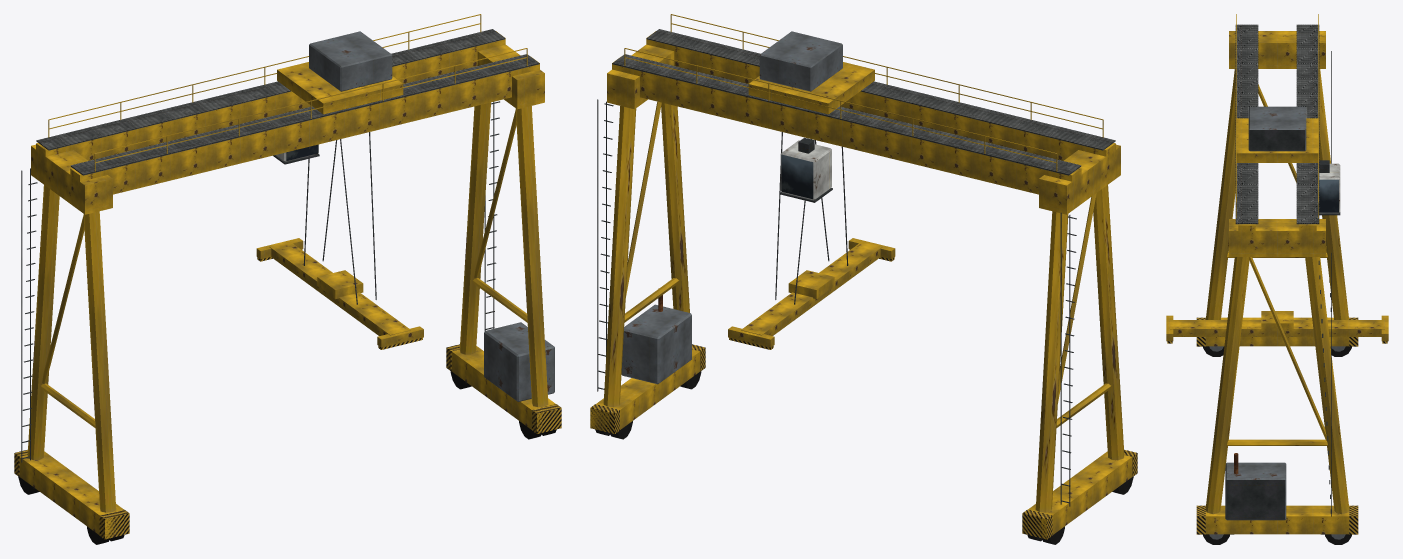
Rendered from c_rtg.glb.
The picture shows the model from 3 angles, left to right: view 1: azimuth 30°, elevation 25°; view 2: azimuth 150°, elevation 25°; view 3: azimuth 270°, elevation 25°; orthographic projection. The views are drawn at different scales.
Parts seen in each view (by area): view 1: body|props; view 2: body|props; view 3: body|props.
Part boxes in pixels (left/top/right/bottom): body|props: left=14, top=14, right=561, bottom=544; body|props: left=590, top=14, right=1137, bottom=544; body|props: left=1166, top=14, right=1388, bottom=544.
Size of the model in its own units: 27.27 by 21.87 by 12.4.
1 material, 1 textured.
